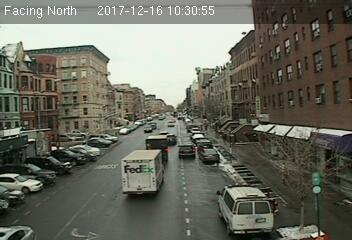car: (177, 142, 196, 158), (200, 148, 219, 163)
police: (215, 180, 276, 236)
truck: (120, 149, 164, 198)
ups: (144, 134, 169, 160)
